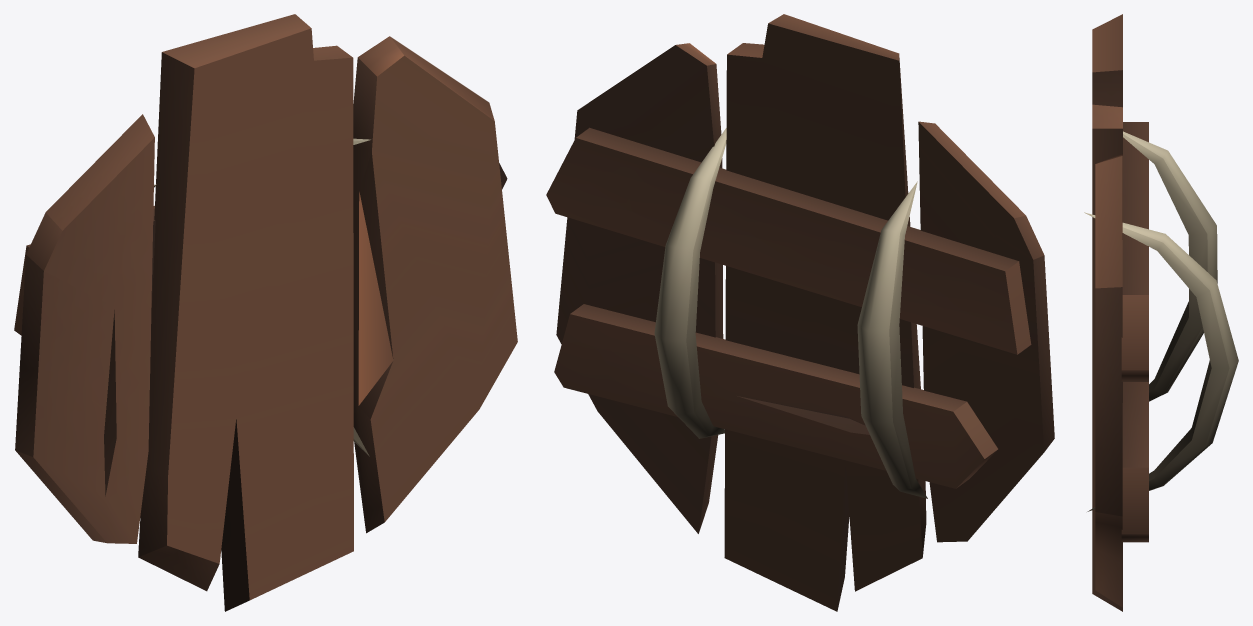
The model's file is Shield_1A.FBX.
The picture shows the model from 3 angles, left to right: view 1: azimuth 30°, elevation 25°; view 2: azimuth 150°, elevation 25°; view 3: azimuth 270°, elevation 25°; orthographic projection. The views are drawn at different scales.
Parts seen in each view (by area): view 1: Shield_1A; view 2: Shield_1A; view 3: Shield_1A.
Part boxes in pixels (x1,y1,x2,y2): Shield_1A: [14, 14, 517, 611]; Shield_1A: [546, 14, 1054, 611]; Shield_1A: [1084, 14, 1238, 611].
Bounding box in the file's own units: 52.5 × 58.8 × 15.18.
